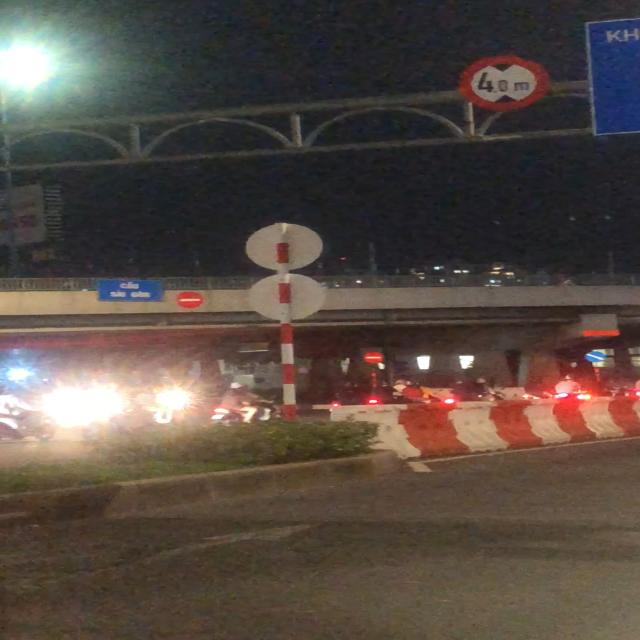Bien bao cam di nguoc chieu: (176, 290, 204, 312), (362, 350, 386, 364)
Bien bao han che chieu cao: (457, 54, 554, 110)
Bien bao huong phai di vong chuong ngai vat: (583, 349, 609, 364)
